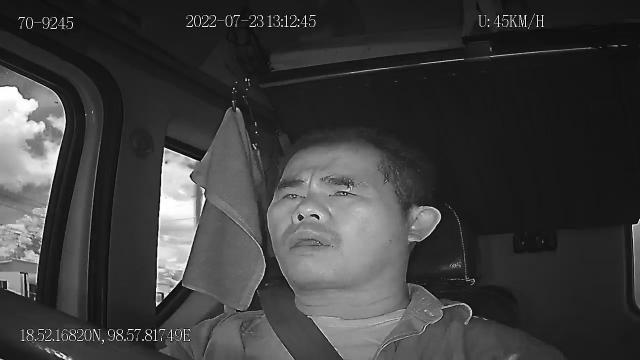SafeDriving: (322, 180, 362, 203), (274, 183, 308, 206)
Seatbelt: (254, 284, 346, 360)
